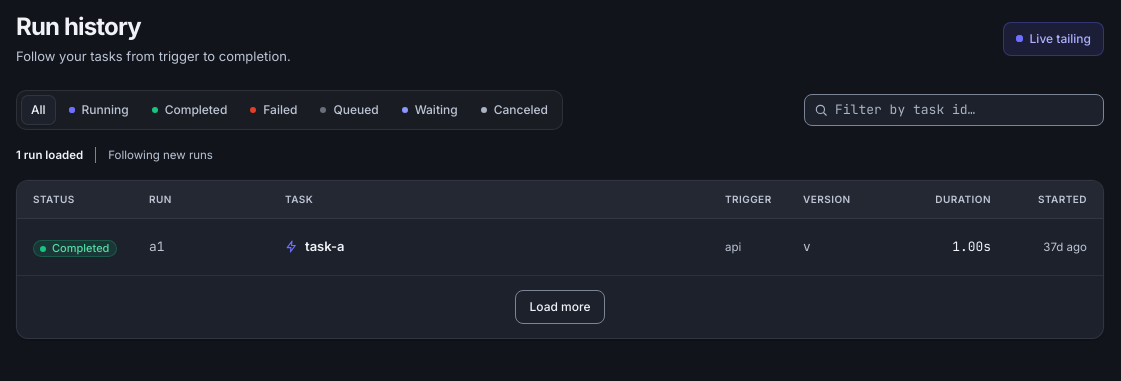
Test case: RunsList loaded history › holds loaded rows and stops polling while paused, then refreshes immediately on resume
Expected: the text "1 run loaded" is shown, [16,146,83,163]
Click the button "Live tailing" at (1053, 39), box [1003,22,1104,56]
Wait 6000 ms
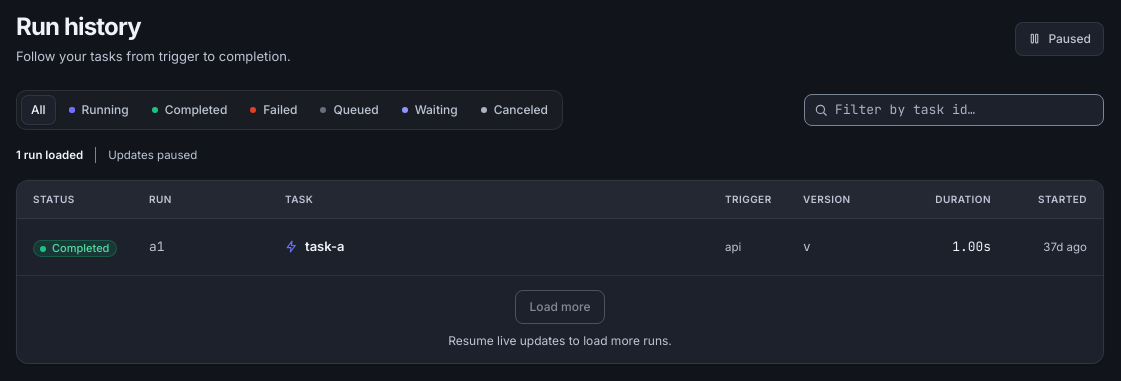
Expected: the text "a1" is shown, [149,238,164,256]
Expected: the text "Updates paused" is shown, [95,146,197,163]
Expected: the button "Load more" is disabled, [514,290,606,324]
Click the button "Paused" at (1060, 39), box [1015,22,1104,56]
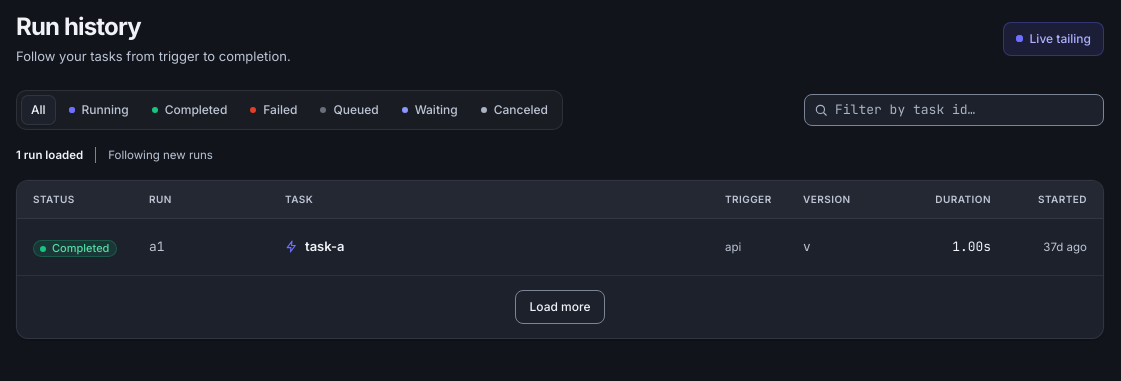
Expected: the button "Live tailing" is shown, [1003,22,1104,56]
